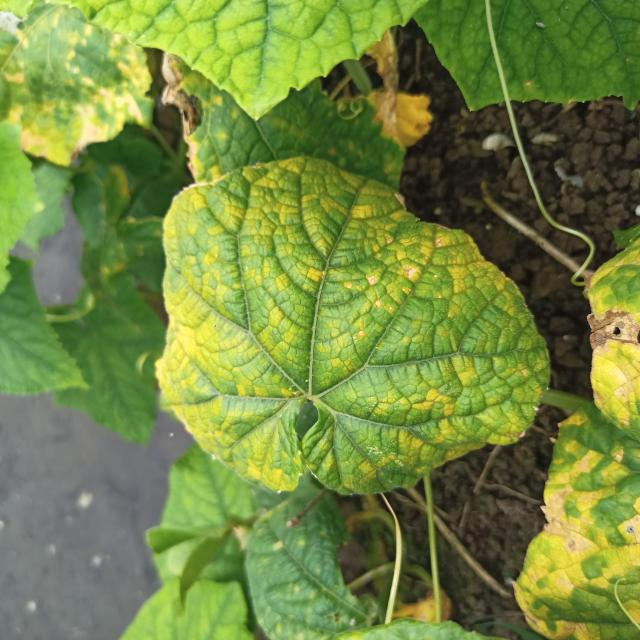disease_cucumber: (156, 163, 536, 486)
